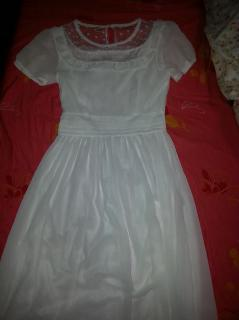short sleeve dress: (0, 18, 218, 319)
